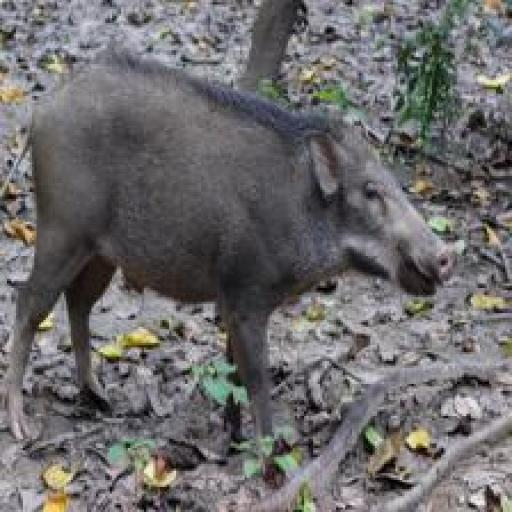Pig: (0, 50, 466, 458)
